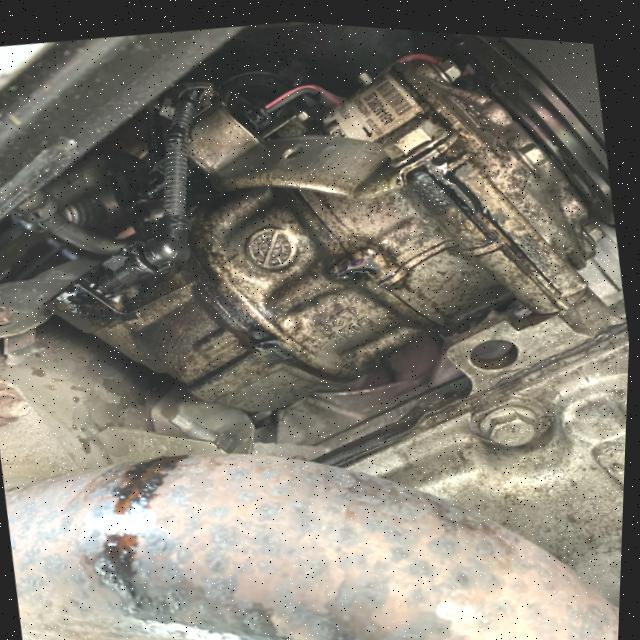corrosion: (35, 181, 215, 356), (83, 444, 206, 614), (301, 213, 406, 319), (413, 144, 491, 243)
